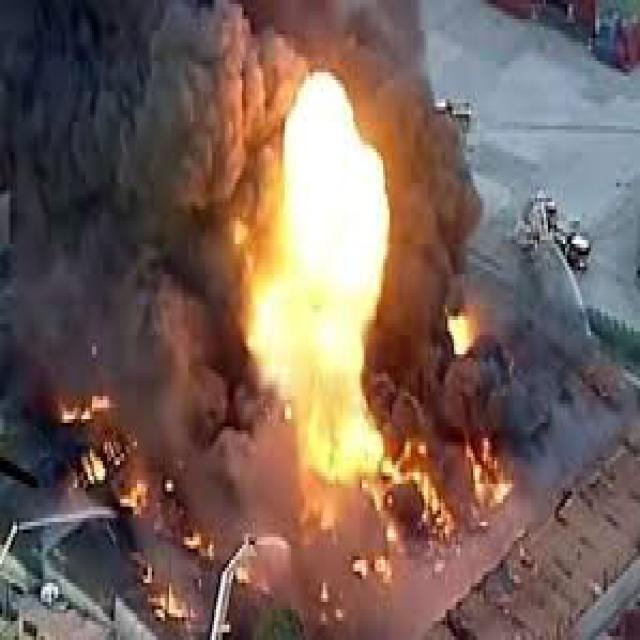fire: (276, 88, 390, 495)
smoke: (15, 4, 270, 461), (349, 4, 582, 457)
